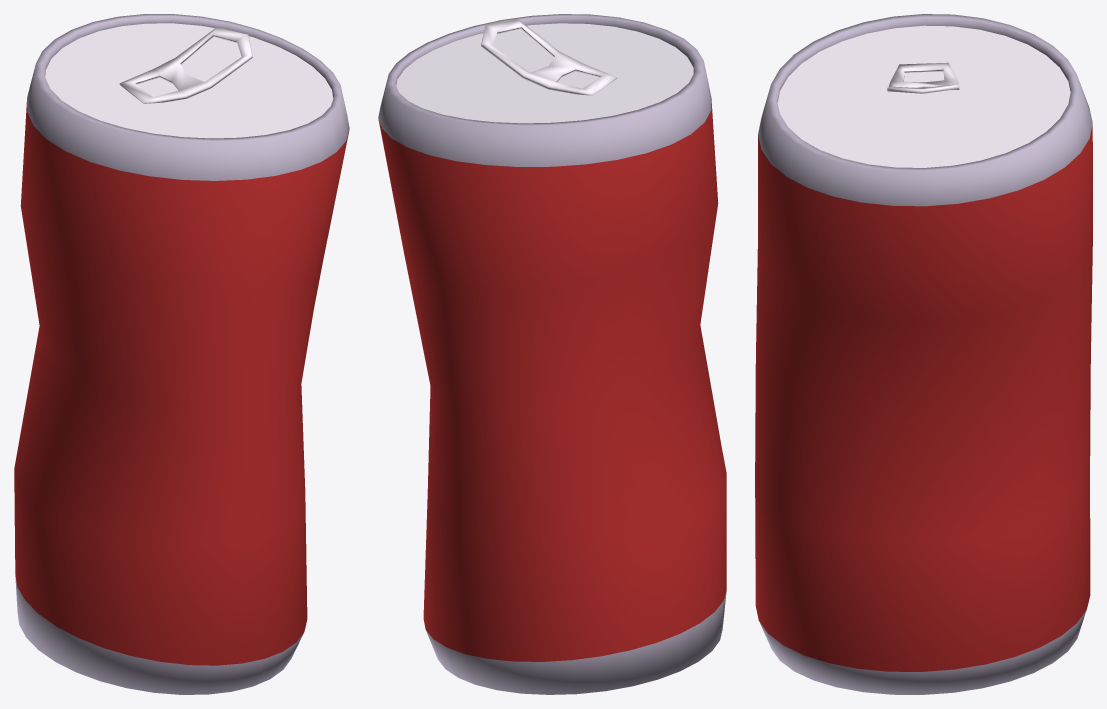
File: can2.fbx
3 renders of one model, left to right at view 1: azimuth 30°, elevation 25°; view 2: azimuth 150°, elevation 25°; view 3: azimuth 270°, elevation 25°, orthographic. The views are drawn at different scales.
Visible parts, largest first — view 1: Can 1; view 2: Can 1; view 3: Can 1.
Boxes of the visible parts, x1,y1,x2,y2 form: Can 1: (14, 14, 349, 694); Can 1: (378, 14, 726, 694); Can 1: (755, 14, 1092, 694).
Size of the model in its own units: 156 by 301 by 155.
